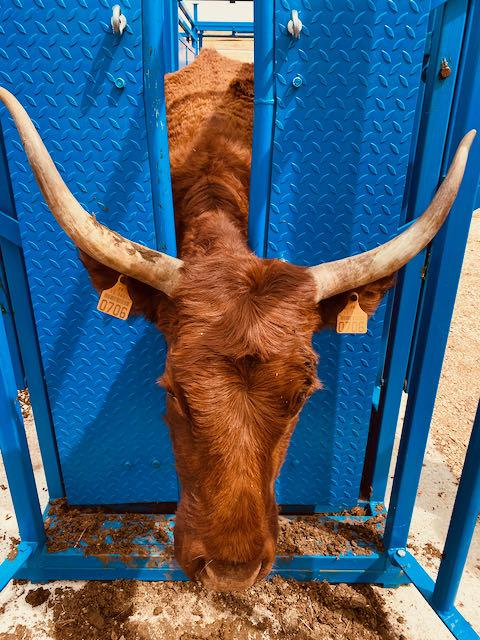muzzles: (185, 540, 273, 595)
